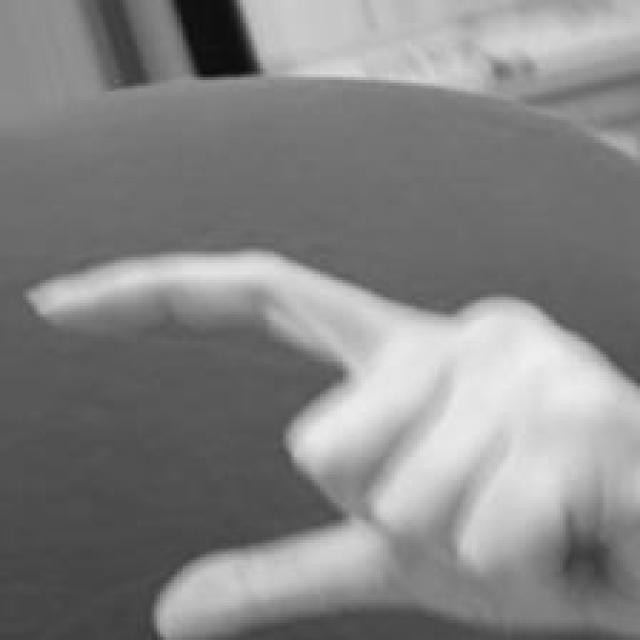C: (22, 245, 637, 640)
